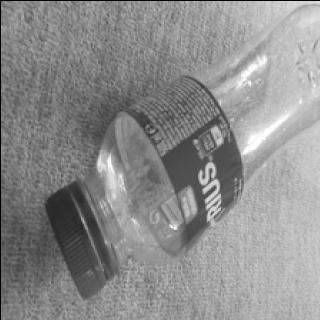plastic_bottles: (34, 8, 320, 302)
